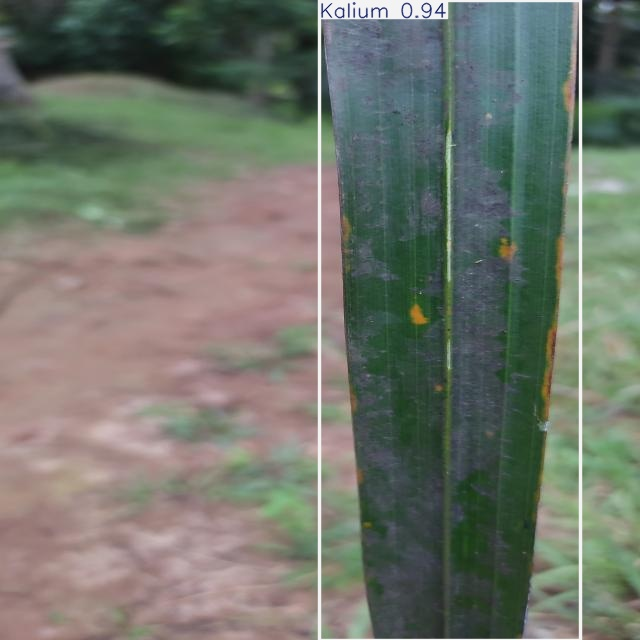Kalium: (320, 0, 580, 640)
